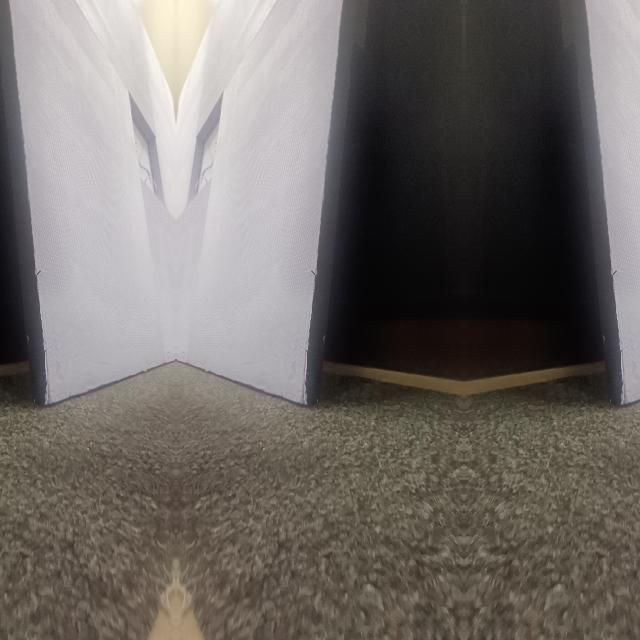obstacle: (178, 167, 364, 409), (0, 167, 172, 409), (563, 167, 640, 409)
